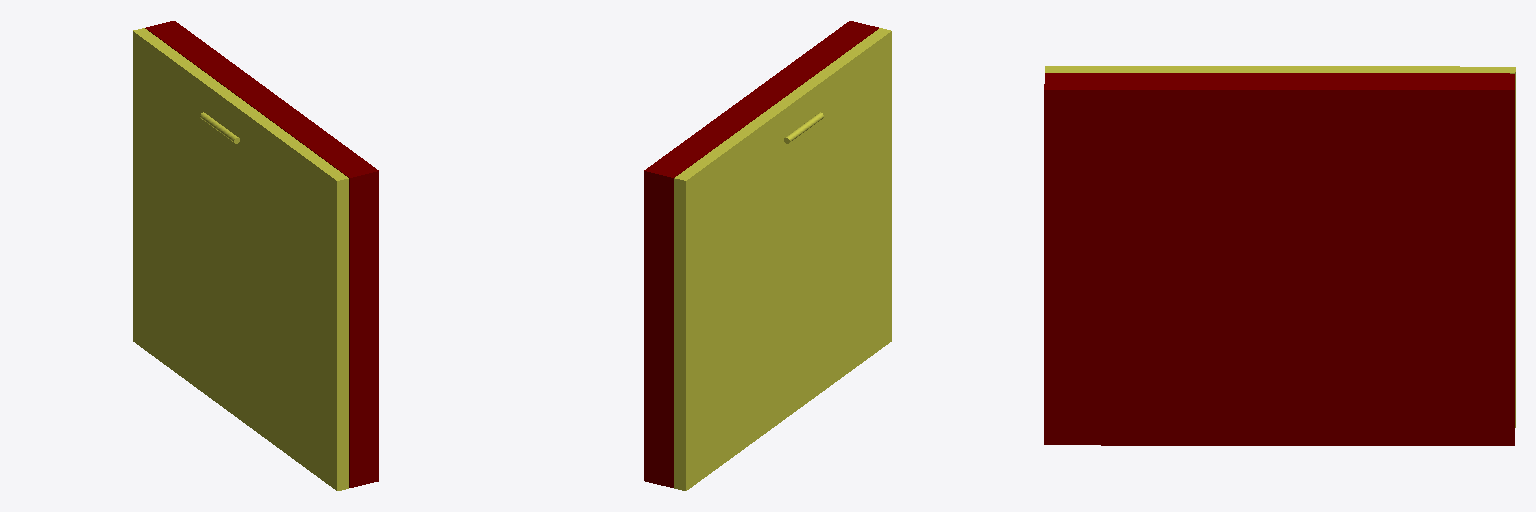
The robot description file, URDF, robot "door":
<?xml version="1.0" ?>
<robot name="door">
    <link name="world"/>
    <joint name="fixed" type="fixed">
        <parent link="world"/>
        <child link="door_frame"/>
        <origin xyz="0.65 0.3 0.01" rpy="0 0 3.14"/>
    </joint>

    <link name="door_frame">
        <visual>
            <origin rpy="0 0 0" xyz="0 0 0.25"/>
            <geometry>
                <box size="0.05 0.6 0.5"/>
            </geometry>
            <material name="frame_material">
                <color rgba="0.5 0.0 0.0 1" />
            </material>
        </visual>
        <collision>
            <origin rpy="0 0 0" xyz="0 0 0.25"/>
            <geometry>
                <box size="0.05 0.6 0.5"/>
            </geometry>
        </collision>
    </link>


    <link name="door_link">
        <inertial>
            <origin rpy="0 0 0" xyz="0 0 0.25"/>
            <mass value="1.0"/>
            <inertia ixx="0.048966669" ixy="0" ixz="0" iyy="0.046466667" iyz="0" izz="0.0041666669"/>
        </inertial>
        <visual>
            <origin rpy="0 0 0" xyz="0 0 0.25"/>
            <geometry>
                <box size="0.02 0.6 0.5"/>
            </geometry>
            <material name="door_material">
                <color rgba="0.8 0.8 0.3 1" />
            </material>
        </visual>
        <collision>
            <origin rpy="0 0 0" xyz="0 0 0.25"/>
            <geometry>
                <box size="0.02 0.6 0.5"/>
            </geometry>
        </collision>
    </link>

    <joint name="door_joint" type="revolute">
        <parent link="door_frame"/>
        <child link="door_link"/>
        <dynamics damping="1.0" friction="4.0"/>
        <origin xyz="0.036 0 0"/>
        <axis xyz="0 1 0"/>
        <limit effort="100" lower="0" upper="1.57" velocity="10.0"/>
    </joint>

    <link name="handle_link">
        <inertial>
            <origin rpy="0 0 0" xyz="0 0 0"/>
            <mass value="0.1"/>
            <inertia ixx="0.001" ixy="0" ixz="0" iyy="0.001" iyz="0" izz="0.001"/>
        </inertial>
        <visual>
            <origin rpy="0 0 0" xyz="0 0 0"/>
            <geometry>
                <cylinder radius="0.005" length="0.10"/>
            </geometry>
            <material name="handle_matreial">
                <color rgba="0.8 0.8 0.3 1" />
            </material>
        </visual>
        <collision>
            <origin rpy="0 0 0" xyz="0 0 0"/>
            <geometry>
                <cylinder radius="0.005" length="0.010"/>
            </geometry>
        </collision>
    </link>

    <joint name="handle_joint" type="fixed">
        <parent link="door_link"/>
        <child link="handle_link"/>
        <origin xyz="0.035 0 0.47" rpy="1.5708 0 0"/>
        <dynamics damping="1.0" friction="2.0"/>
        <axis xyz="0 1 0"/>
    </joint>
</robot>

--- What the picture shows (computed from the rendered views, not written in the file) ---
3 views of the same robot in one strip: view 1: azimuth 30°, elevation 25°; view 2: azimuth 150°, elevation 25°; view 3: azimuth 270°, elevation 25° (orthographic).
Model door with 4 links and 3 joints (1 revolute, 2 fixed), rooted at world, posed every joint at zero.
Links seen in each view (by area): view 1: door_link, door_frame; view 2: door_link, door_frame; view 3: door_frame, door_link.
Link boxes in pixels (box(x1,y1,x2,y2)): door_link: box(133, 28, 348, 490); door_frame: box(145, 21, 378, 487); door_link: box(674, 28, 891, 490); door_frame: box(644, 21, 878, 487); door_frame: box(1044, 73, 1514, 445); door_link: box(1045, 66, 1515, 427).
Size in the robot's own frame: 0.1016 by 0.6001 by 0.5 metres.
Geometry: primitives only (box / cylinder / sphere), no mesh files.